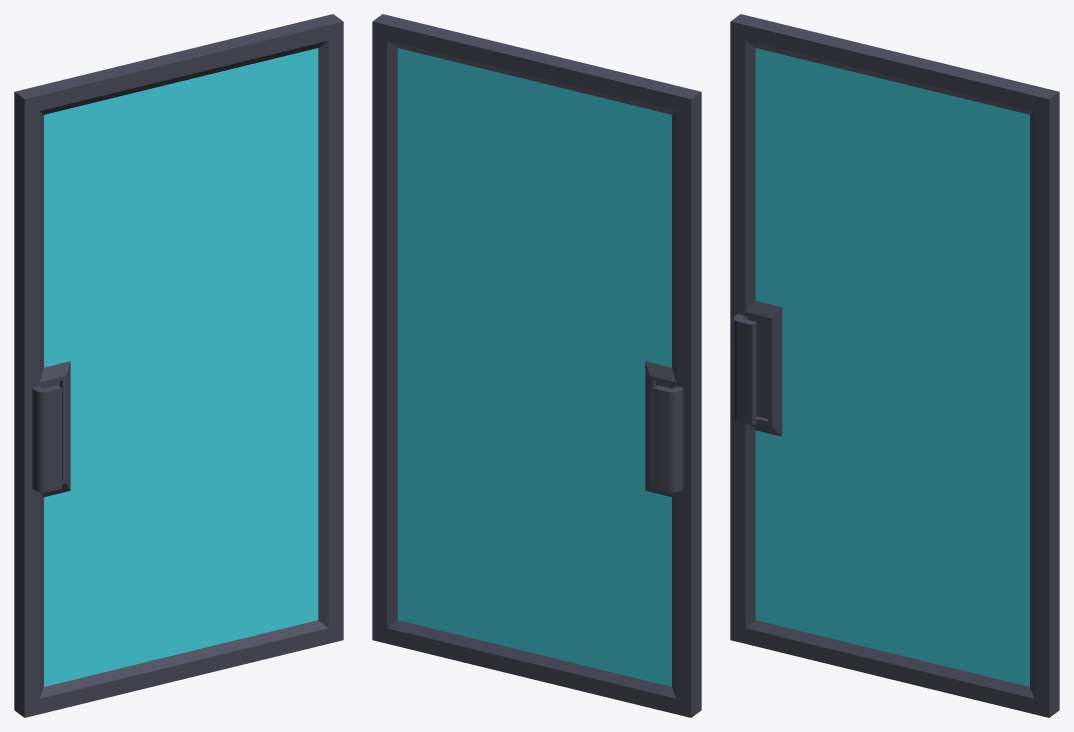
The model's file is SM_Buildings_Commercial_Door_02_R.fbx.
3 renders of one model, left to right at view 1: azimuth 30°, elevation 25°; view 2: azimuth 150°, elevation 25°; view 3: azimuth 330°, elevation 25°, orthographic.
Parts seen in each view (by area): view 1: SM_Buildings_Commercial_Door_02_R; view 2: SM_Buildings_Commercial_Door_02_R; view 3: SM_Buildings_Commercial_Door_02_R.
Part boxes in pixels (<box>): SM_Buildings_Commercial_Door_02_R: <box>14,14,343,717</box>; SM_Buildings_Commercial_Door_02_R: <box>372,14,701,717</box>; SM_Buildings_Commercial_Door_02_R: <box>730,14,1059,717</box>.
Size of the model in its own units: 1.08 by 1.99 by 0.15.
